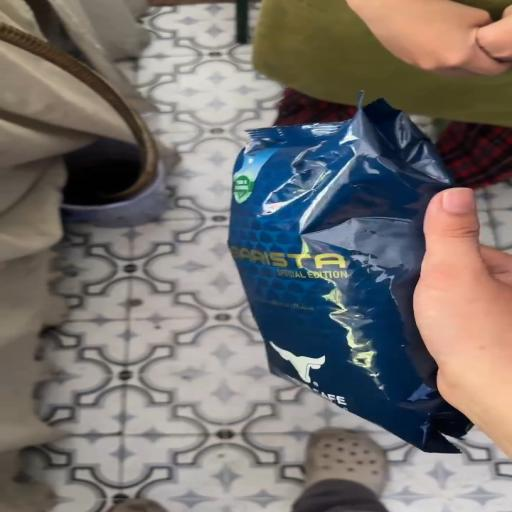cafe_hat: (228, 100, 471, 453)
